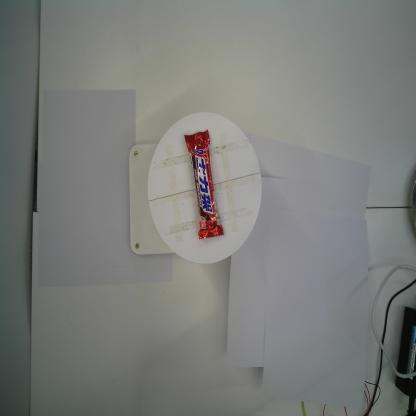Chocolate: (184, 129, 225, 241)
